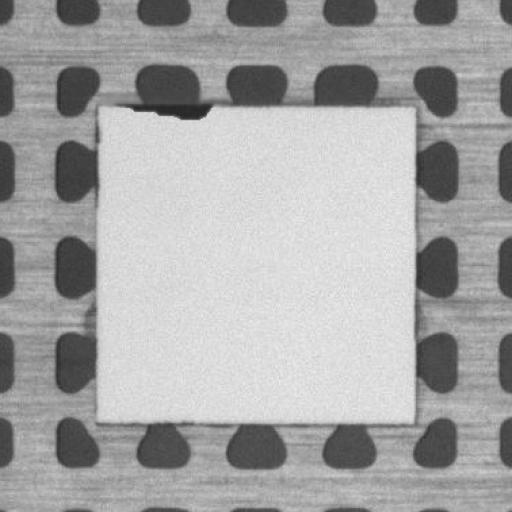DIE_BROKEN: (125, 95, 214, 120)
